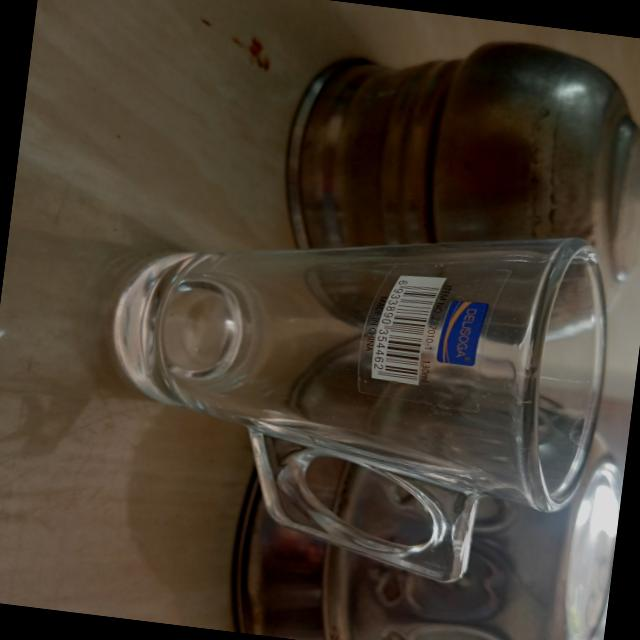glass-VX4N: (82, 180, 618, 594)
